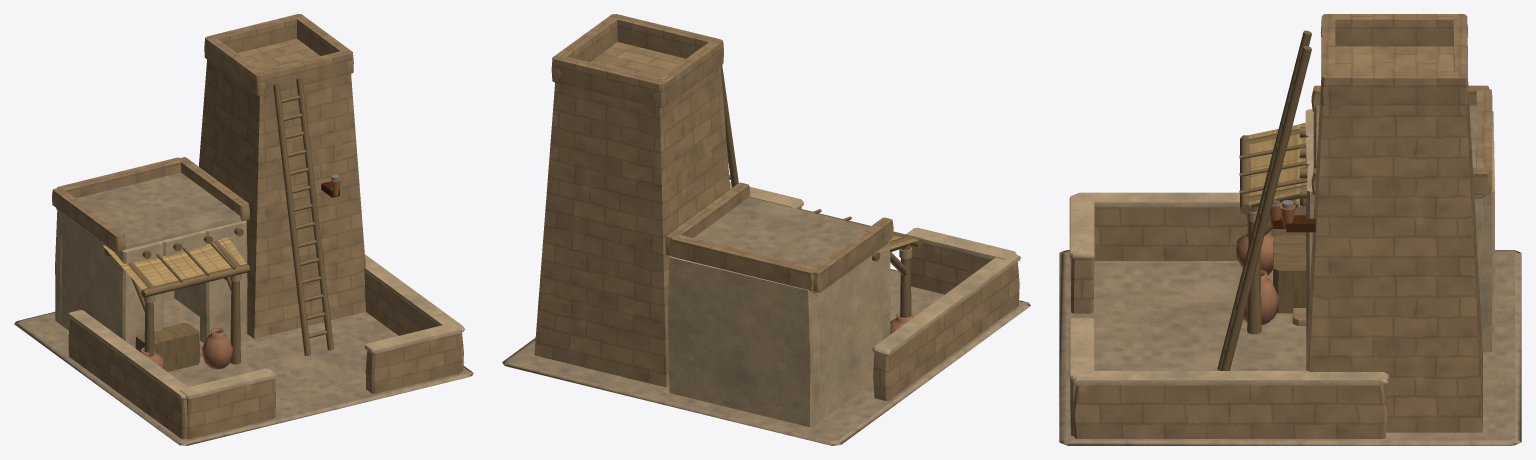
The model's file is watchHouse.glb.
3 renders of one model, left to right at view 1: azimuth 30°, elevation 25°; view 2: azimuth 150°, elevation 25°; view 3: azimuth 270°, elevation 25°, orthographic. The views are drawn at different scales.
Parts seen in each view (by area): view 1: 29,18-original-watchHouse-game-raw-brick-facing, 29,18-original-watchHouse-alluvial-earth, 29,18-original-watchHouse-warm-clay-plaster, 29,18-original-watchHouse-worn-timber, 29,18-original-watchHouse-laid-reed-thatch, 29,18-original-watchHouse-fired-pottery; view 2: 29,18-original-watchHouse-game-raw-brick-facing, 29,18-original-watchHouse-warm-clay-plaster, 29,18-original-watchHouse-alluvial-earth, 29,18-original-watchHouse-worn-timber; view 3: 29,18-original-watchHouse-game-raw-brick-facing, 29,18-original-watchHouse-alluvial-earth, 29,18-original-watchHouse-warm-clay-plaster, 29,18-original-watchHouse-worn-timber, 29,18-original-watchHouse-laid-reed-thatch, 29,18-original-watchHouse-fired-pottery.
Boxes of the visible parts, x1,y1,x2,y2 form: 29,18-original-watchHouse-game-raw-brick-facing: (52,14,463,439); 29,18-original-watchHouse-alluvial-earth: (14,172,473,445); 29,18-original-watchHouse-warm-clay-plaster: (55,210,464,399); 29,18-original-watchHouse-worn-timber: (104,77,333,371); 29,18-original-watchHouse-laid-reed-thatch: (103,237,246,292); 29,18-original-watchHouse-fired-pottery: (140,328,233,369); 29,18-original-watchHouse-game-raw-brick-facing: (534,14,1019,400); 29,18-original-watchHouse-warm-clay-plaster: (668,182,1020,427); 29,18-original-watchHouse-alluvial-earth: (502,197,1030,445); 29,18-original-watchHouse-worn-timber: (720,65,922,317); 29,18-original-watchHouse-game-raw-brick-facing: (1070,14,1492,438); 29,18-original-watchHouse-alluvial-earth: (1059,105,1521,445); 29,18-original-watchHouse-warm-clay-plaster: (1069,109,1494,385); 29,18-original-watchHouse-worn-timber: (1217,30,1311,370); 29,18-original-watchHouse-laid-reed-thatch: (1241,122,1307,204); 29,18-original-watchHouse-fired-pottery: (1236,233,1278,324).
Size of the model in its own units: 5.37 by 4.52 by 5.37.
10 materials, 8 textured.
